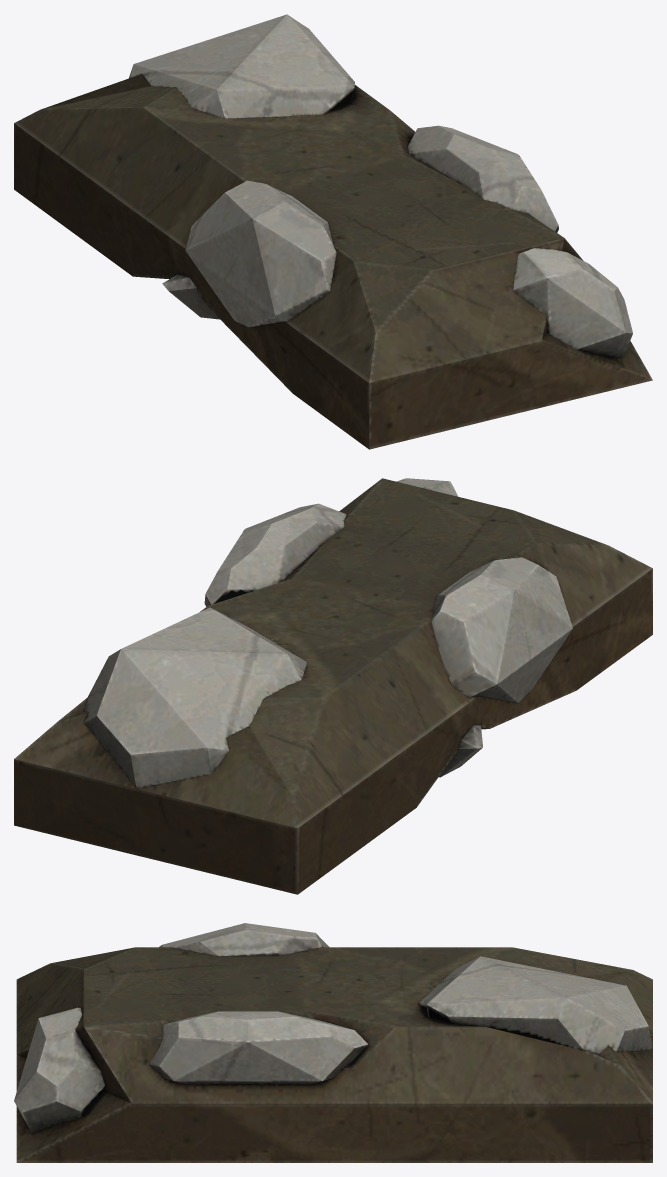
Rendered from Slag.glb.
3 views of the same model, one above another, from view 1: azimuth 30°, elevation 25°; view 2: azimuth 150°, elevation 25°; view 3: azimuth 270°, elevation 25° (orthographic). The views are drawn at different scales.
Visible parts, largest first — view 1: Slag; view 2: Slag; view 3: Slag.
Boxes of the visible parts, x1,y1,x2,y2 form: Slag: [14, 14, 652, 449]; Slag: [14, 478, 652, 894]; Slag: [14, 923, 652, 1162].
Size of the model in its own units: 0.2329 by 0.123 by 0.4803.
1 material, 1 textured.
